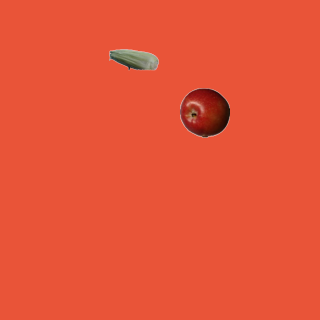Apple Braeburn: (179, 87, 229, 137)
Corn Husk: (108, 34, 158, 84)
